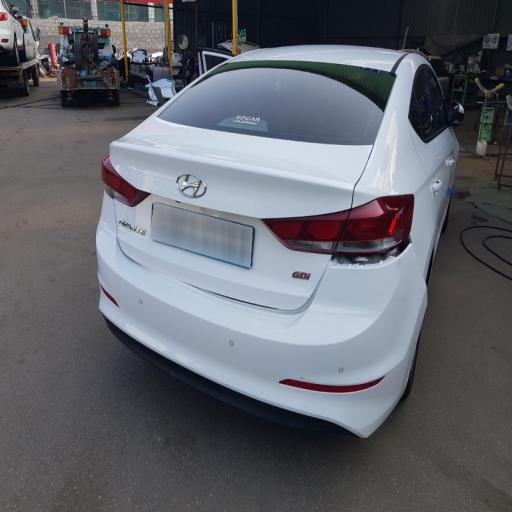broken: (316, 223, 429, 290)
